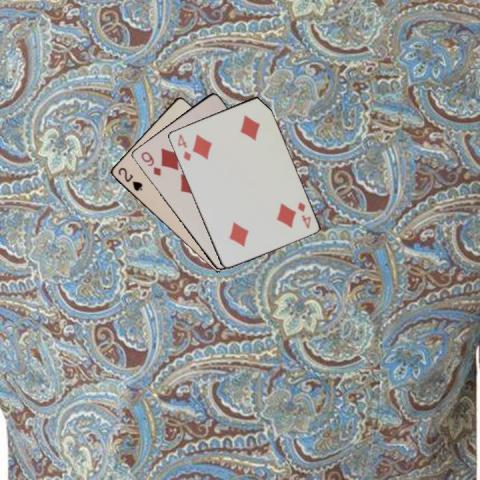2s: (115, 164, 144, 193)
4d: (294, 199, 312, 230), (175, 131, 192, 162)
9d: (137, 149, 162, 177)
